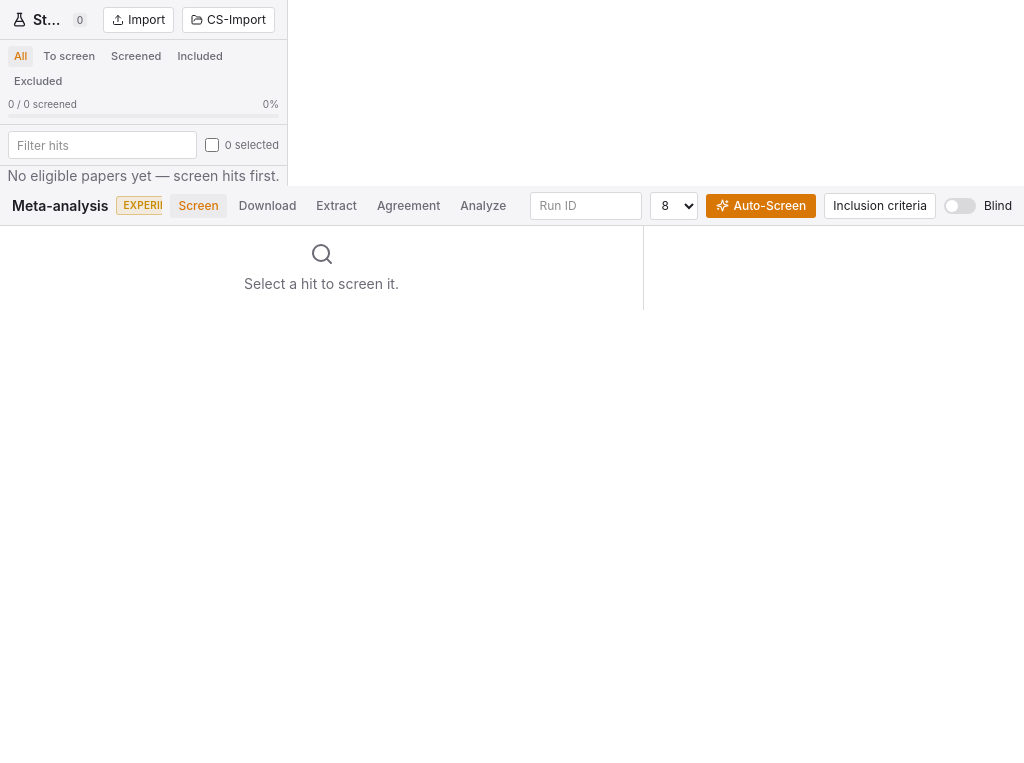
Test: MetaView analyze tab › renders the multiverse spec table and summary
Click the button "Analyze" at (483, 206), box [452, 194, 514, 218]
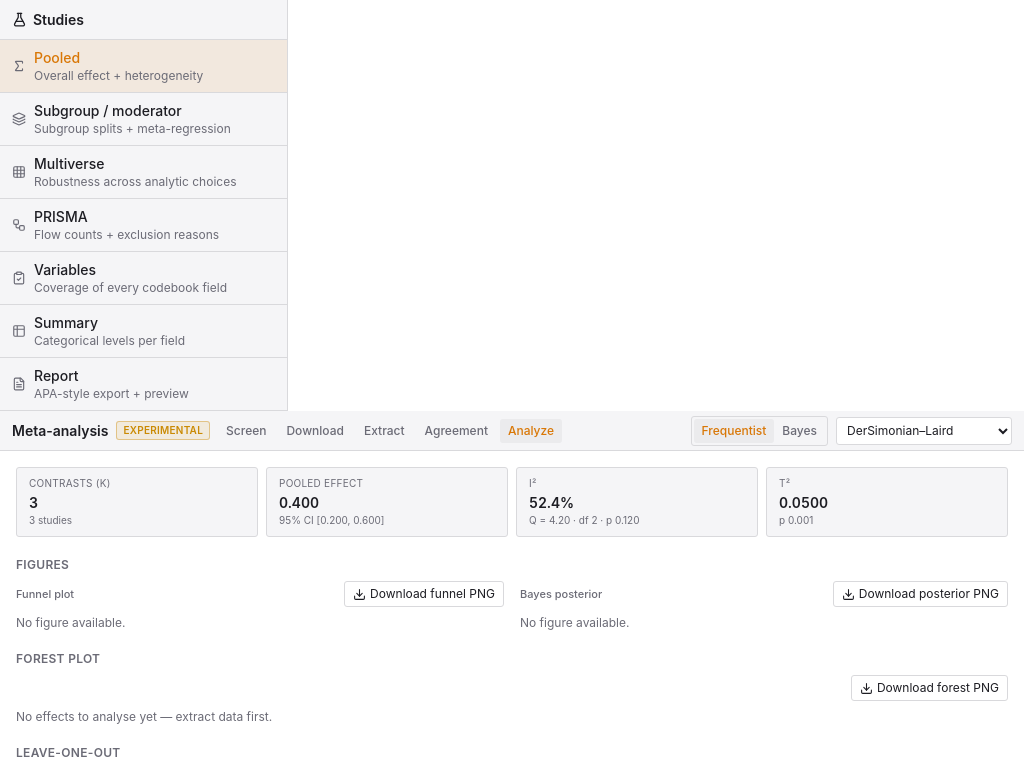
Click the button "Multiverse Robustness across analytic choices" at (144, 172), box [0, 146, 287, 199]
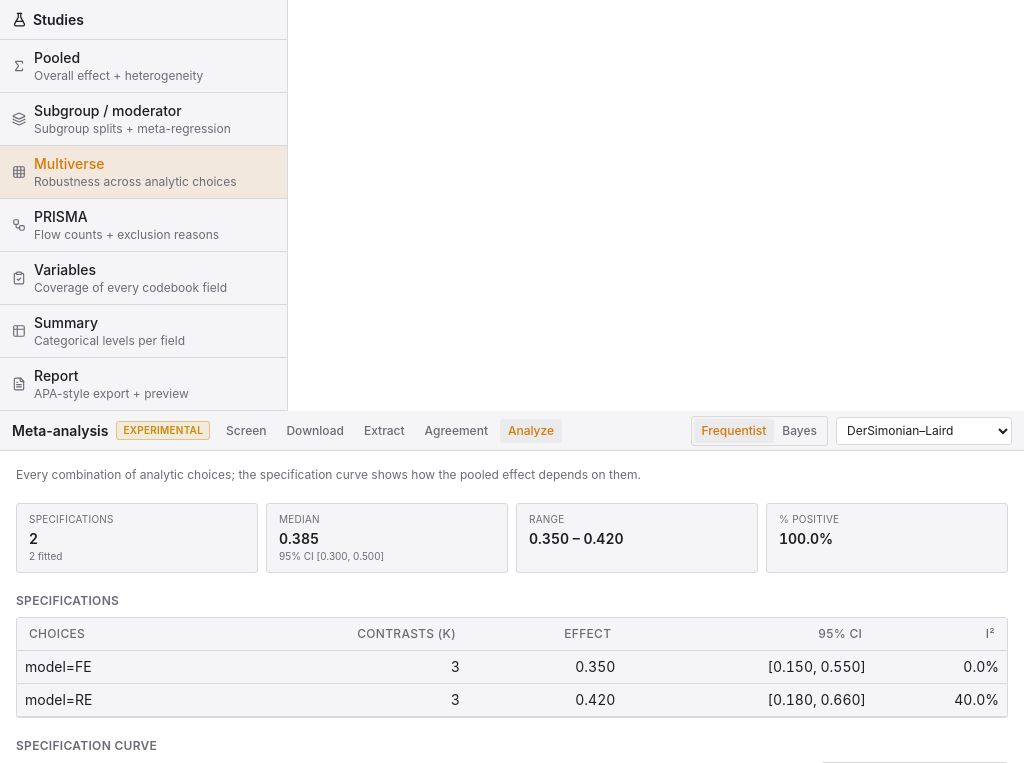
Expected: the text "Specifications" is shown, [29, 513, 114, 525]
Expected: the text "Median" is shown, [279, 513, 320, 525]
Expected: the text "0.385" is shown, [279, 530, 319, 547]
